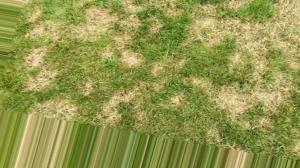patch: (221, 83, 252, 110), (254, 29, 283, 53), (66, 26, 97, 47), (205, 18, 225, 37), (100, 12, 118, 31), (126, 51, 137, 62)
